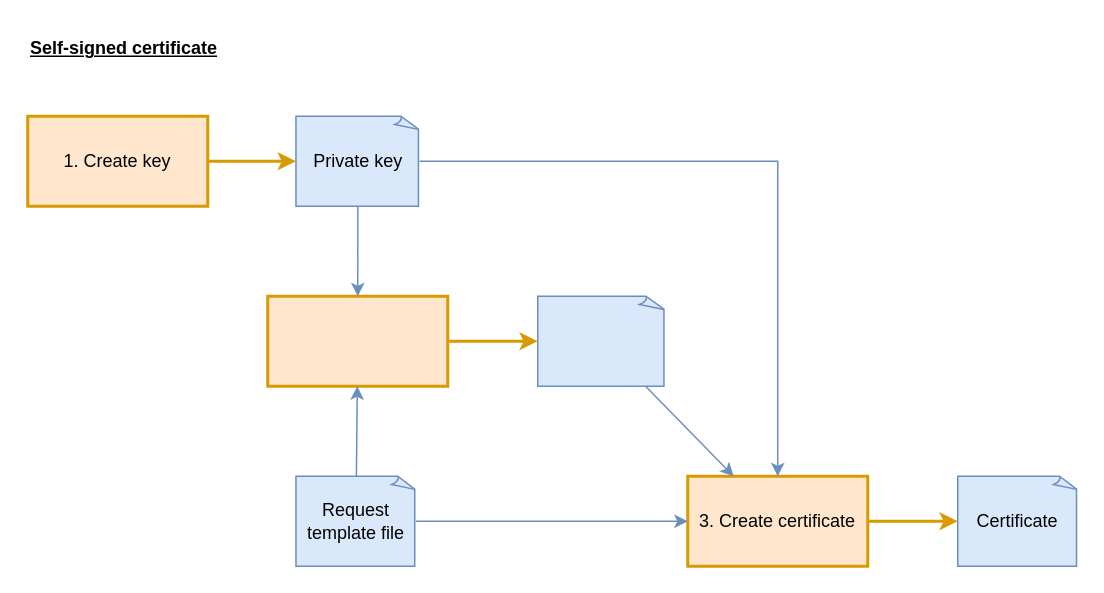
Some shapes in this 1104 by 593 pixel diagram are drawn without their labels. The shapes that lost their labels are listed below. From the top down, each one's centre as x and y in pixels, then its label:
At (x=357, y=340): "2. Create certificate signing request".
At (x=600, y=340): "Certificate Signing Request".
